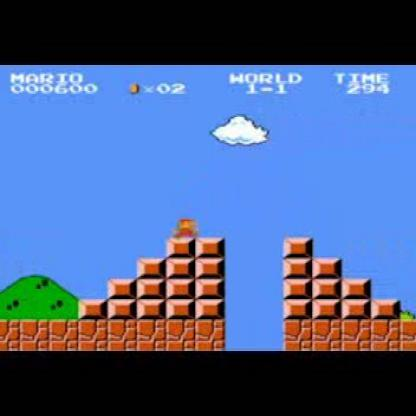Hoyo: (218, 320, 288, 350)
